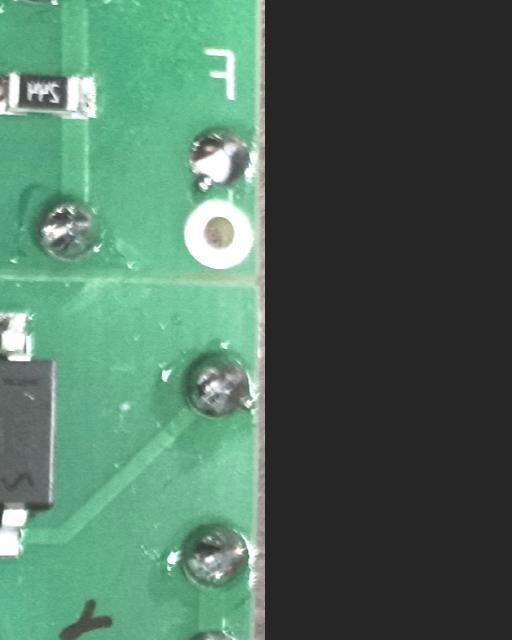chip-resistor: (0, 70, 97, 119)
